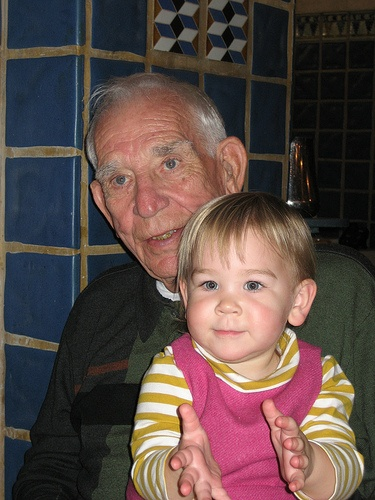head: (86, 73, 231, 264), (179, 192, 312, 364)
person: (6, 50, 327, 500), (120, 192, 371, 500)
